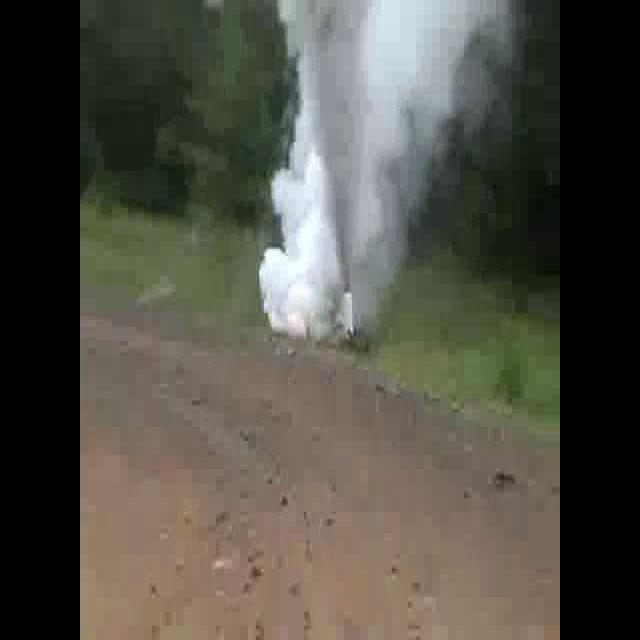Smoke: (255, 0, 522, 357)
